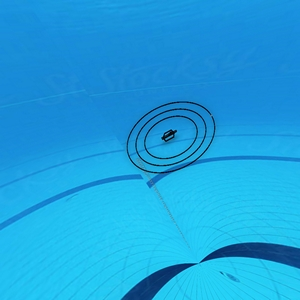circle: (125, 95, 218, 177)
submarine: (160, 128, 177, 142)
